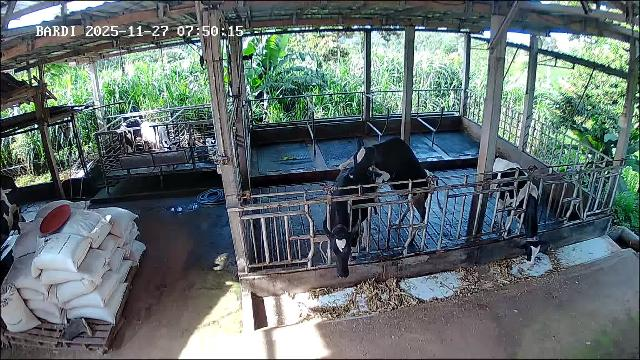mounting: (337, 137, 429, 241)
